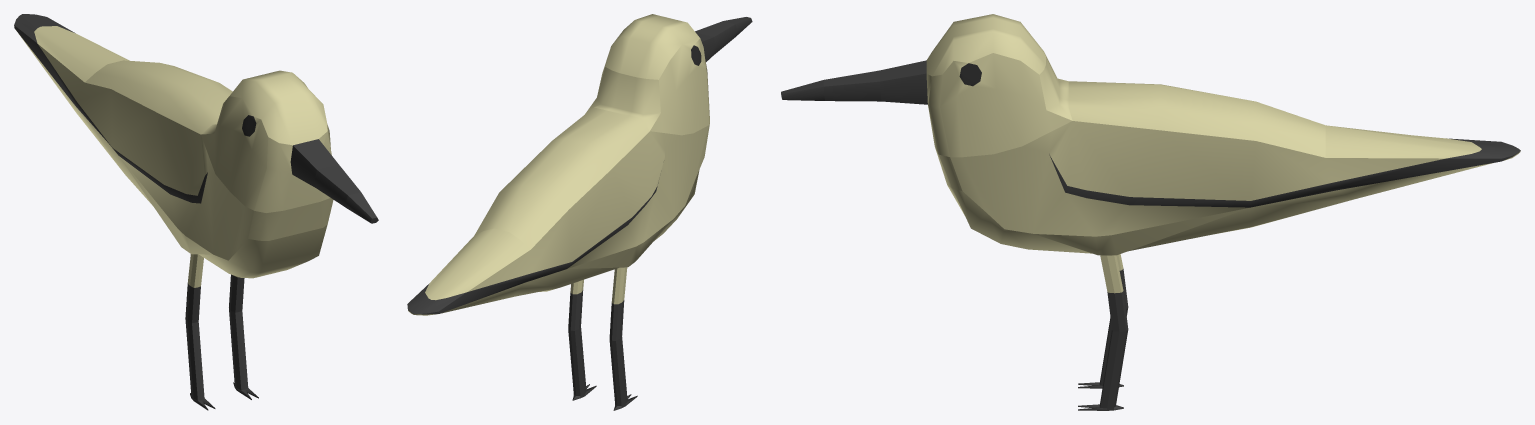
The model's file is bird.fbx.
The picture shows the model from 3 angles, left to right: view 1: azimuth 30°, elevation 25°; view 2: azimuth 150°, elevation 25°; view 3: azimuth 270°, elevation 25°; orthographic projection. The views are drawn at different scales.
Parts seen in each view (by area): view 1: sandlöpare7:birdMesh; view 2: sandlöpare7:birdMesh; view 3: sandlöpare7:birdMesh.
Boxes of the visible parts, x1,y1,x2,y2 form: sandlöpare7:birdMesh: [14, 14, 378, 410]; sandlöpare7:birdMesh: [407, 14, 752, 410]; sandlöpare7:birdMesh: [781, 14, 1520, 410].
Bounding box in the file's own units: 0.2363 × 0.9113 × 1.63.
